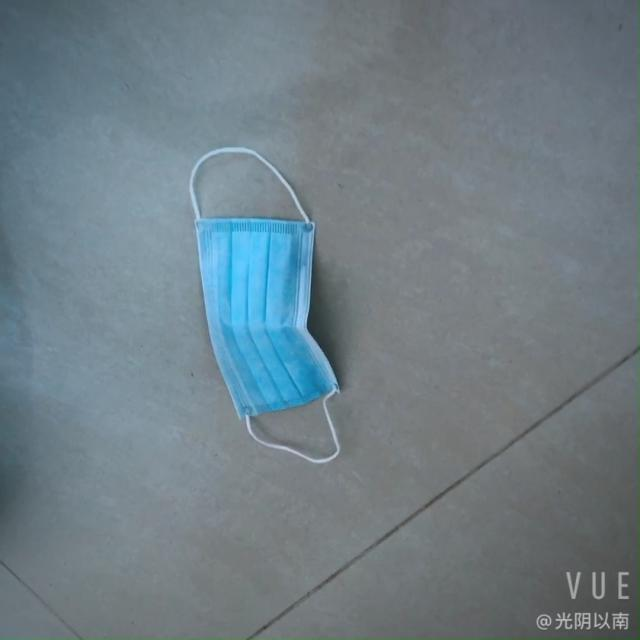non-organic waste: (188, 154, 332, 465)
